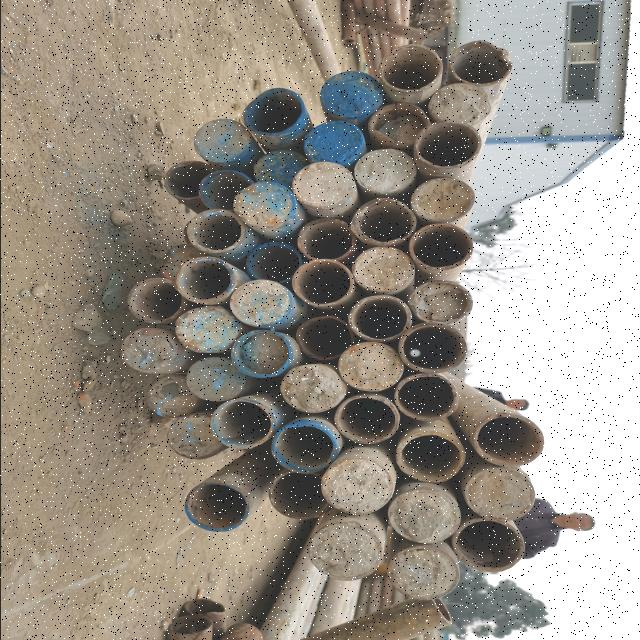pipe: (308, 522, 382, 583), (320, 458, 394, 516), (450, 525, 534, 573), (384, 491, 460, 543), (386, 546, 456, 601), (474, 415, 546, 467), (379, 41, 445, 96), (464, 470, 536, 520), (398, 430, 466, 482), (180, 482, 248, 534), (338, 338, 402, 392), (398, 322, 466, 372), (272, 421, 336, 474), (414, 122, 483, 170), (346, 294, 414, 342), (290, 160, 355, 210), (242, 86, 304, 136), (411, 176, 475, 224), (410, 220, 470, 271), (282, 362, 342, 413), (338, 394, 396, 446), (320, 68, 378, 120), (210, 402, 274, 449), (348, 200, 413, 246), (229, 278, 291, 326), (231, 182, 295, 228), (394, 377, 460, 421), (294, 256, 352, 306), (177, 307, 240, 353), (183, 358, 246, 404), (164, 414, 227, 460), (230, 331, 290, 379), (183, 207, 243, 255), (176, 256, 236, 304), (414, 278, 472, 326), (116, 329, 176, 375), (368, 103, 429, 147), (430, 81, 488, 127), (355, 247, 413, 293), (125, 278, 183, 324), (452, 41, 511, 85), (272, 472, 328, 518), (354, 150, 412, 194), (306, 120, 364, 164), (296, 314, 349, 362), (142, 374, 198, 419), (296, 219, 354, 261), (250, 146, 304, 190), (192, 119, 246, 163), (165, 156, 212, 202), (246, 242, 298, 283), (198, 169, 250, 209), (156, 243, 203, 283), (165, 616, 213, 637), (179, 598, 226, 618), (426, 598, 456, 628)
